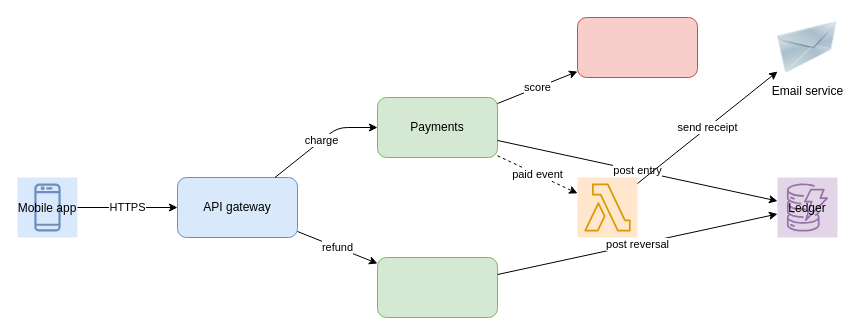
This 860x335 diagram has some shape labels left out. The centre of each missing label's shape, as x and y in pixels:
Fraud check: [637,47]
Receipt sender: [607,207]
Refunds: [437,287]
